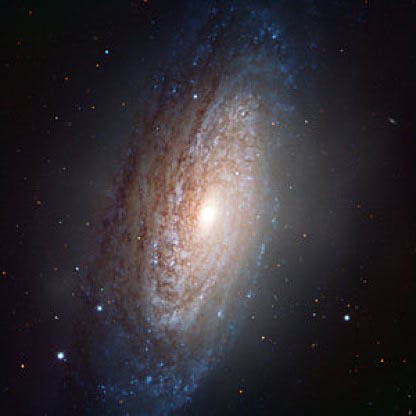NGC 3521: (58, 16, 374, 416)
